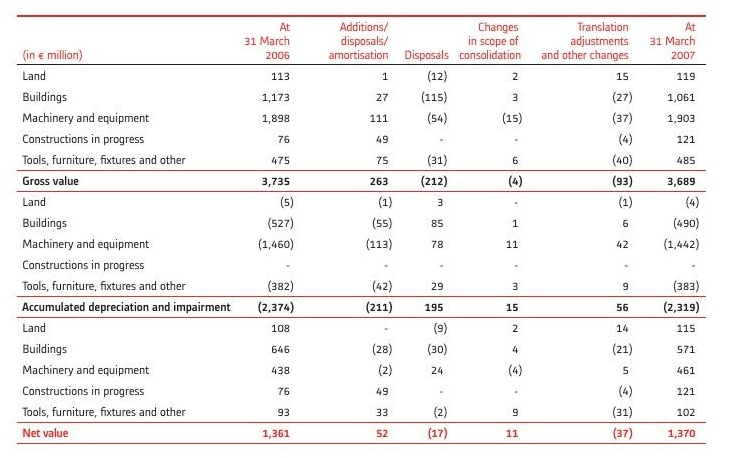table: (0, 0, 729, 458)
